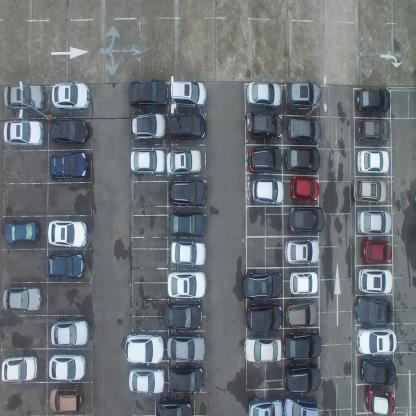car: (125, 332, 164, 366), (128, 77, 170, 107), (2, 83, 45, 112), (166, 270, 206, 301), (50, 151, 89, 182), (47, 219, 87, 249), (46, 252, 86, 282), (356, 326, 397, 355), (241, 271, 282, 299), (48, 352, 86, 382), (167, 333, 205, 363), (283, 331, 321, 361), (355, 294, 393, 324), (2, 119, 44, 146), (51, 318, 90, 347), (243, 334, 282, 363), (48, 117, 88, 145), (48, 384, 83, 416), (285, 80, 321, 111), (246, 111, 283, 141), (170, 80, 207, 110), (1, 353, 38, 383), (246, 302, 283, 332), (168, 178, 206, 207), (51, 82, 90, 110), (130, 111, 167, 140), (359, 355, 396, 384), (168, 113, 207, 140), (164, 303, 203, 330), (356, 209, 392, 238), (284, 362, 320, 391), (3, 285, 43, 311), (128, 367, 165, 395), (285, 237, 320, 266), (166, 148, 202, 176), (130, 146, 166, 174), (170, 240, 206, 268), (246, 81, 282, 109), (169, 211, 206, 238), (169, 365, 204, 393), (356, 88, 392, 115), (365, 384, 395, 416), (354, 176, 387, 205), (249, 145, 282, 174), (287, 116, 321, 144), (4, 218, 39, 244), (289, 206, 324, 232), (252, 178, 284, 206), (285, 301, 318, 328), (356, 118, 390, 144), (358, 268, 392, 294), (286, 146, 320, 172), (356, 150, 390, 175), (283, 394, 320, 416), (290, 175, 320, 202), (362, 239, 393, 265), (289, 270, 318, 295), (156, 397, 193, 415), (247, 396, 282, 415)
